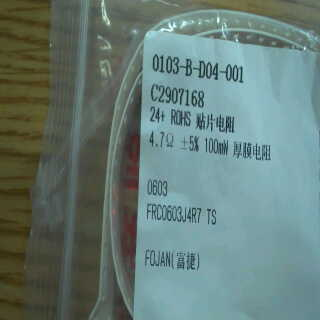4.7R: (146, 128, 178, 151)
